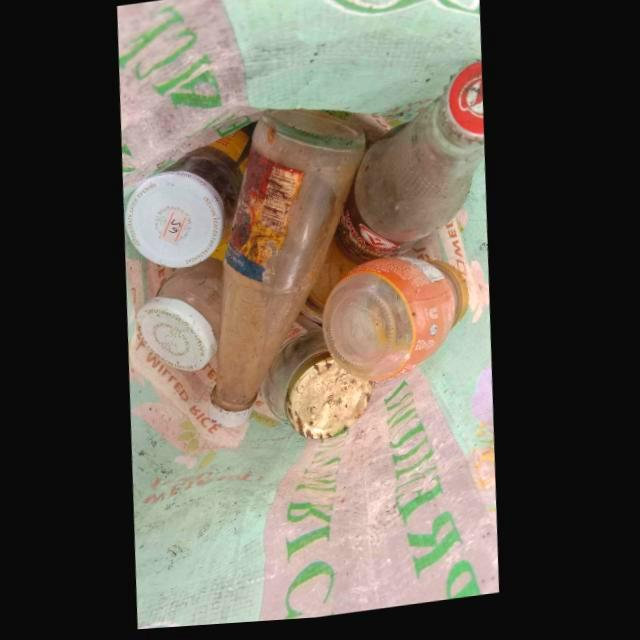glass_bottle: (213, 111, 368, 429), (337, 80, 487, 269), (325, 262, 470, 387), (125, 131, 253, 270), (264, 317, 378, 445), (138, 262, 224, 373)
